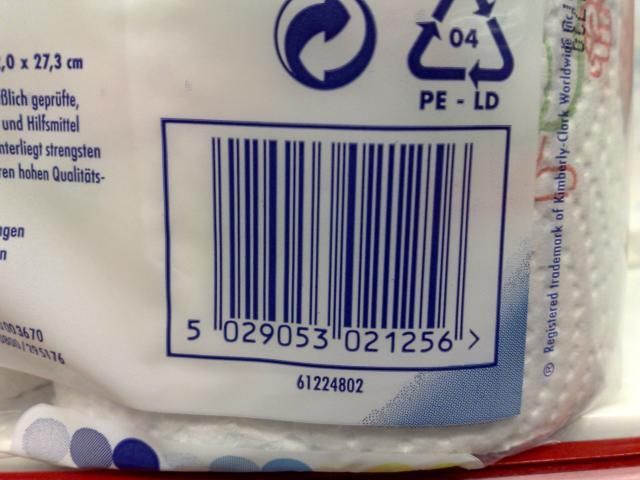Barcode: (171, 130, 493, 364)
